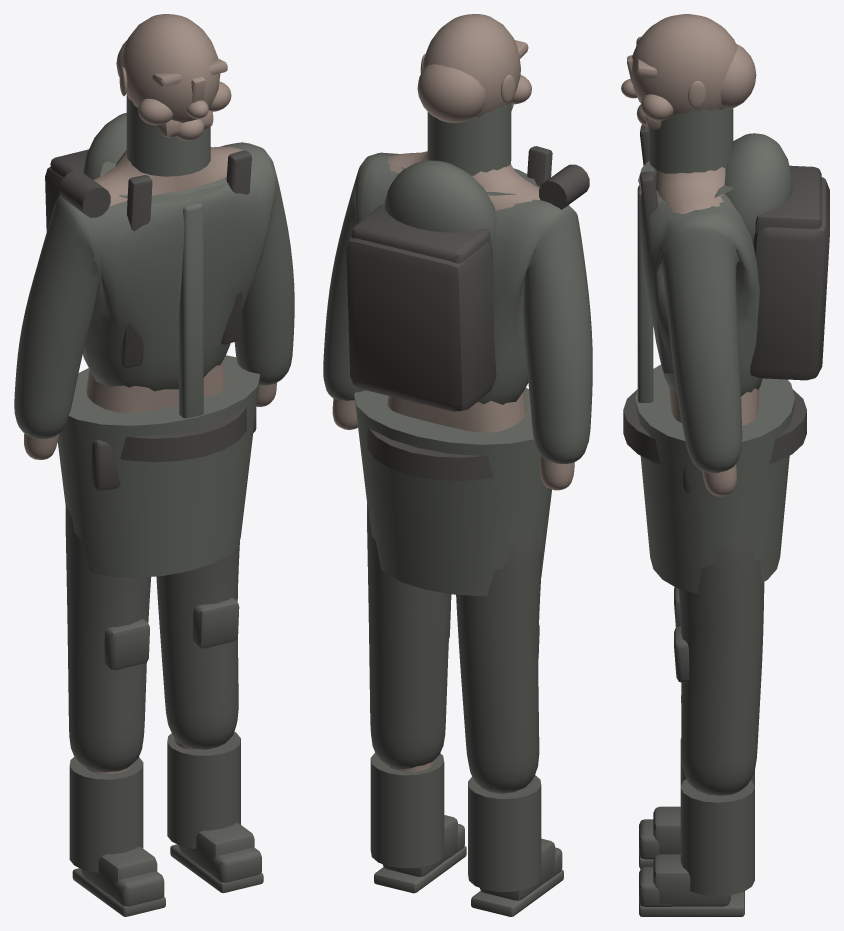
Rendered from stalker.glb.
3 views of the same model, side by side, from view 1: azimuth 30°, elevation 25°; view 2: azimuth 150°, elevation 25°; view 3: azimuth 270°, elevation 25° (orthographic).
Parts seen in each view (by area): view 1: body; view 2: body; view 3: body.
Part boxes in pixels (x1,y1,x2,y2): body: (14, 14, 294, 916); body: (323, 14, 592, 916); body: (621, 14, 829, 916).
Bounding box in the file's own units: 0.592 × 1.85 × 0.4044.
